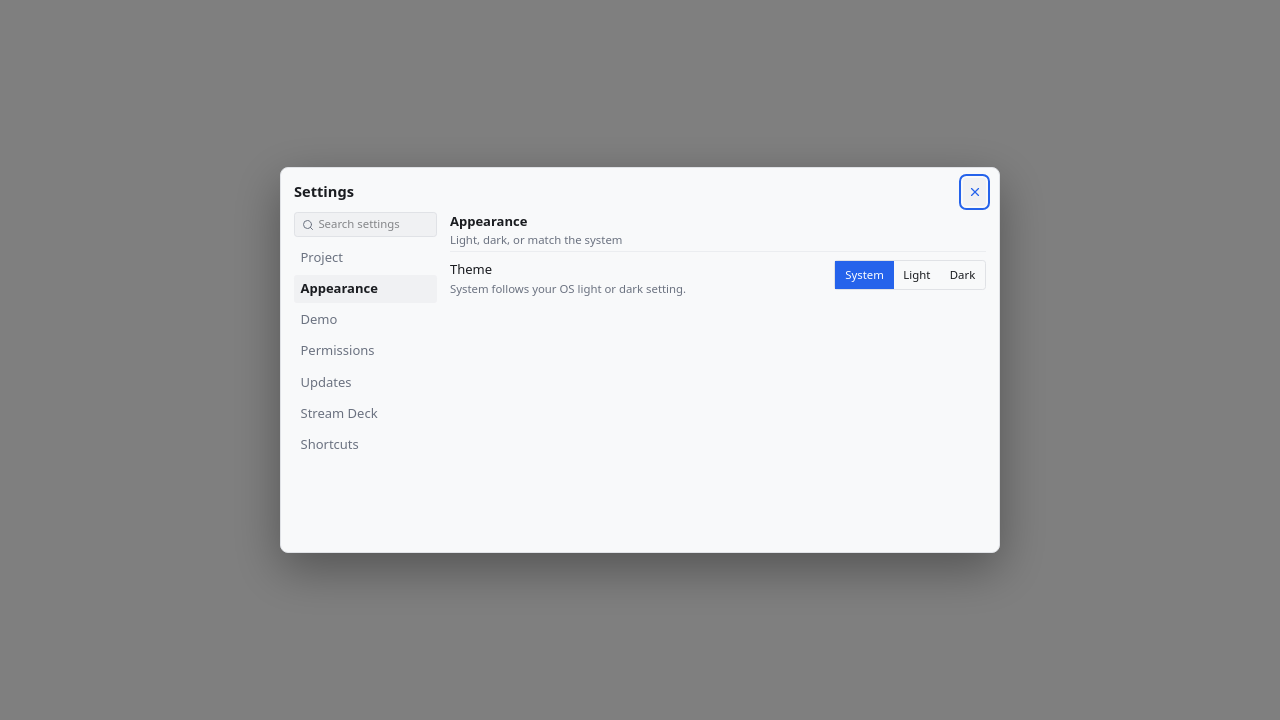
SettingsDialog › switches sections from the nav
Step 1. Click the button with test id "settings-nav-demo" → [366, 320], box top-left (294, 306), bottom-right (437, 334)
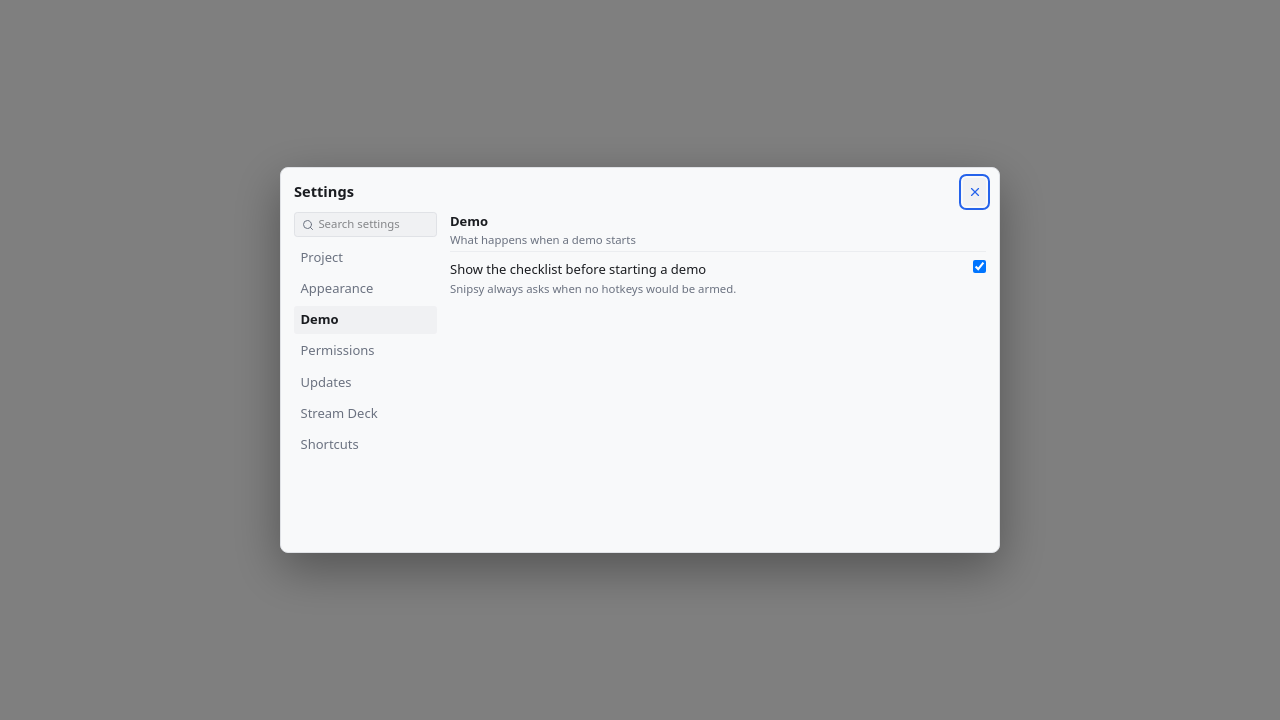
Check: the element with test id "settings-section-demo" is shown, box top-left (450, 212), bottom-right (986, 306)
Check: the element with test id "settings-section-appearance" is gone
